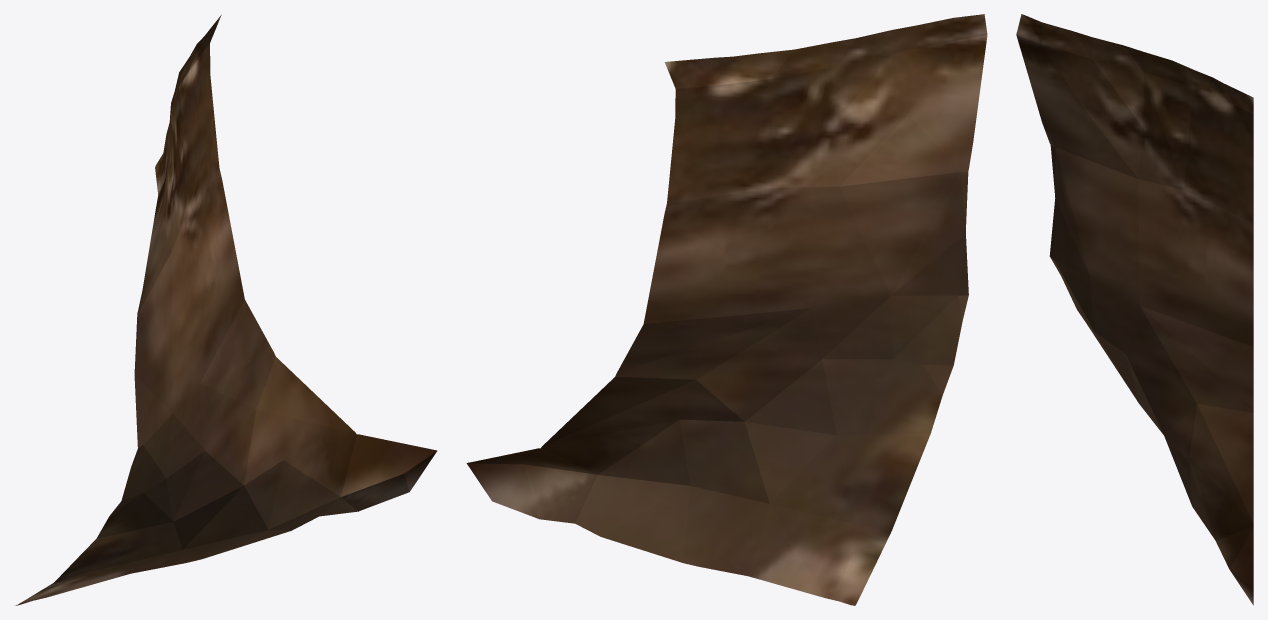
The picture shows the model from 3 angles, left to right: view 1: azimuth 30°, elevation 25°; view 2: azimuth 150°, elevation 25°; view 3: azimuth 270°, elevation 25°; orthographic projection. The views are drawn at different scales.
Bounding box in the file's own units: 0.1885 × 0.2305 × 0.1109.
1 material, 1 textured.
